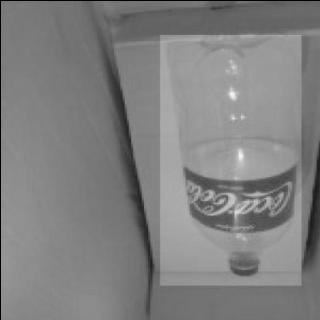plastic_bottles: (158, 34, 300, 284)
